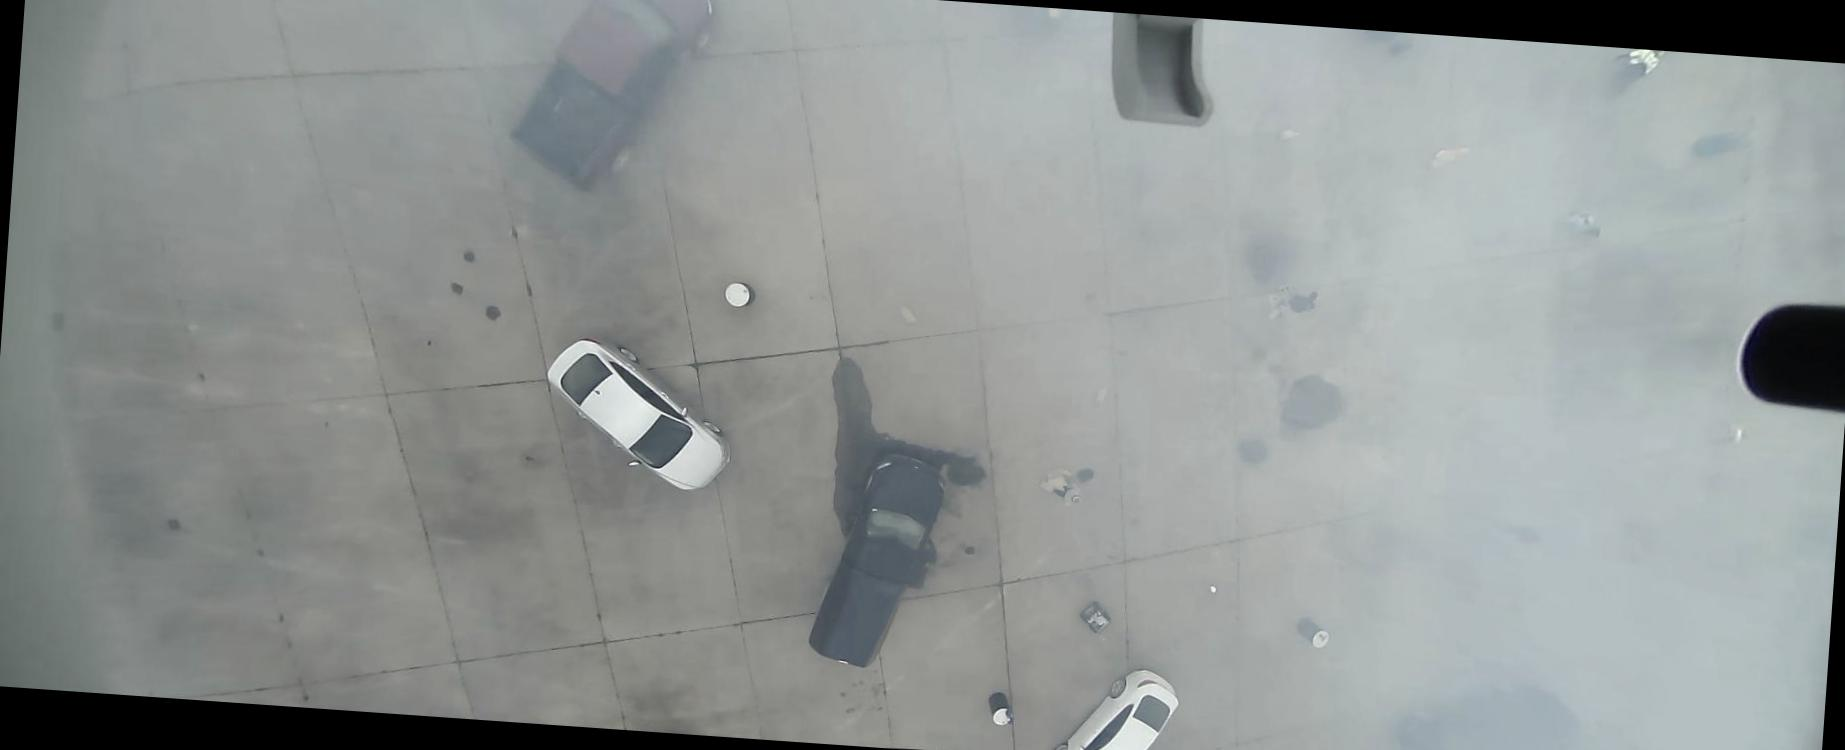vehicle: (502, 0, 719, 206), (537, 334, 740, 496), (805, 445, 948, 673), (1394, 679, 1583, 749), (1053, 662, 1181, 749)
